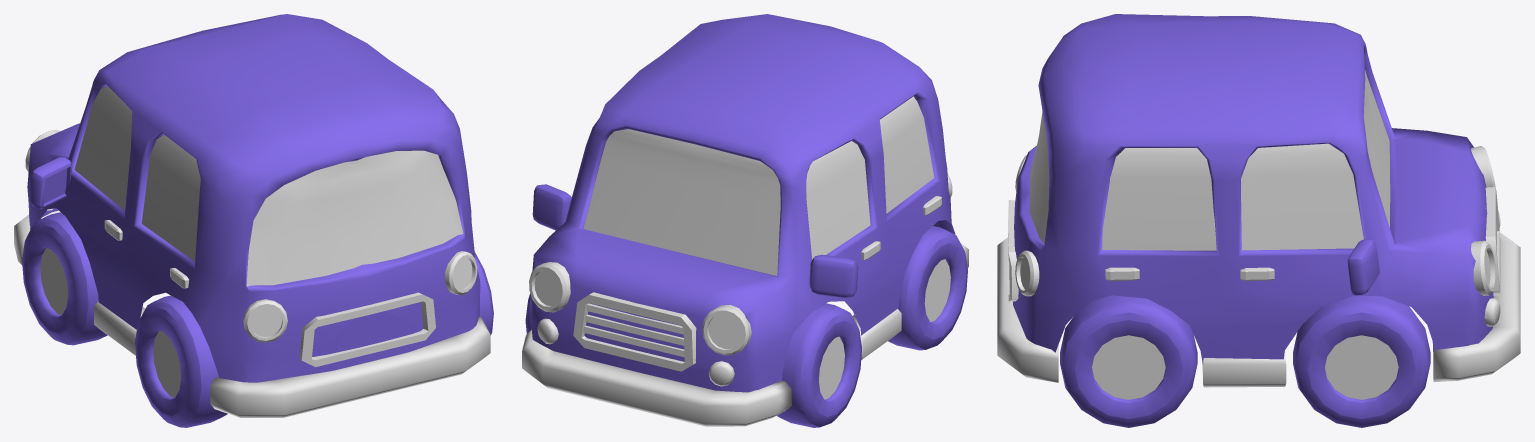
The model's file is Car.fbx.
The picture shows the model from 3 angles, left to right: view 1: azimuth 30°, elevation 25°; view 2: azimuth 150°, elevation 25°; view 3: azimuth 270°, elevation 25°; orthographic projection. The views are drawn at different scales.
Parts seen in each view (by area): view 1: auto, Glas, Metall1; view 2: auto, Glas, Metall1; view 3: auto, Glas, Metall1.
Part boxes in pixels (x1,y1,x2,y2): auto: [22, 14, 493, 427]; Glas: [74, 86, 463, 286]; Metall1: [14, 129, 490, 417]; auto: [525, 14, 967, 427]; Glas: [583, 96, 933, 275]; Metall1: [522, 174, 968, 426]; auto: [1013, 14, 1493, 427]; Glas: [1029, 70, 1390, 250]; Metall1: [997, 146, 1520, 399].
Size of the model in its own units: 2.13 by 1.74 by 2.72.
